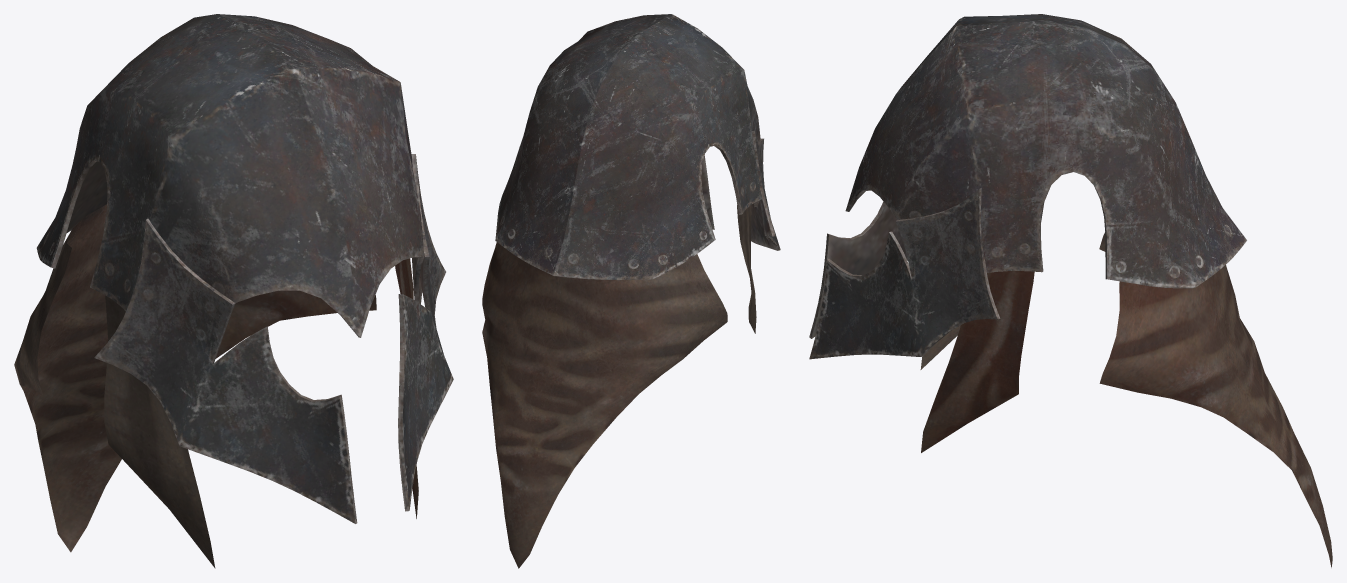
File: sk_dg_uruk_helmet_heavy_d.fbx
3 renders of one model, left to right at view 1: azimuth 30°, elevation 25°; view 2: azimuth 150°, elevation 25°; view 3: azimuth 270°, elevation 25°, orthographic. The views are drawn at different scales.
Parts seen in each view (by area): view 1: sk_dg_uruk_helmet_heavy_d; view 2: sk_dg_uruk_helmet_heavy_d; view 3: sk_dg_uruk_helmet_heavy_d.
Boxes of the visible parts, x1,y1,x2,y2 form: sk_dg_uruk_helmet_heavy_d: [14, 14, 453, 568]; sk_dg_uruk_helmet_heavy_d: [482, 14, 780, 568]; sk_dg_uruk_helmet_heavy_d: [809, 14, 1332, 567].
Size of the model in its own units: 0.2638 by 0.4054 by 0.4682.
Materials: 1 (1 with a texture image).
